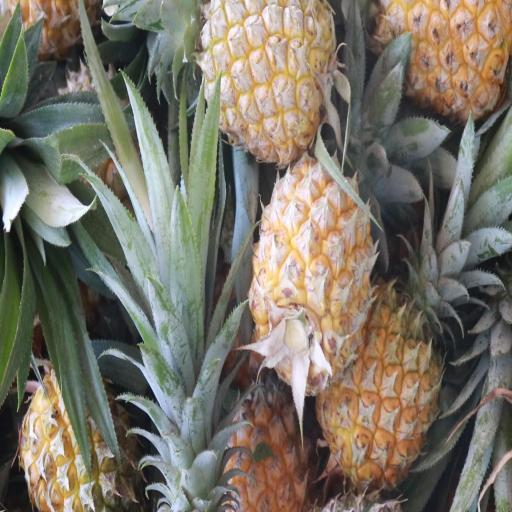------------------------------: (19, 357, 140, 512)
Pineapple - v8 v1: (252, 155, 370, 386), (320, 282, 440, 482), (193, 0, 336, 165), (375, 0, 510, 115), (210, 361, 309, 512)
